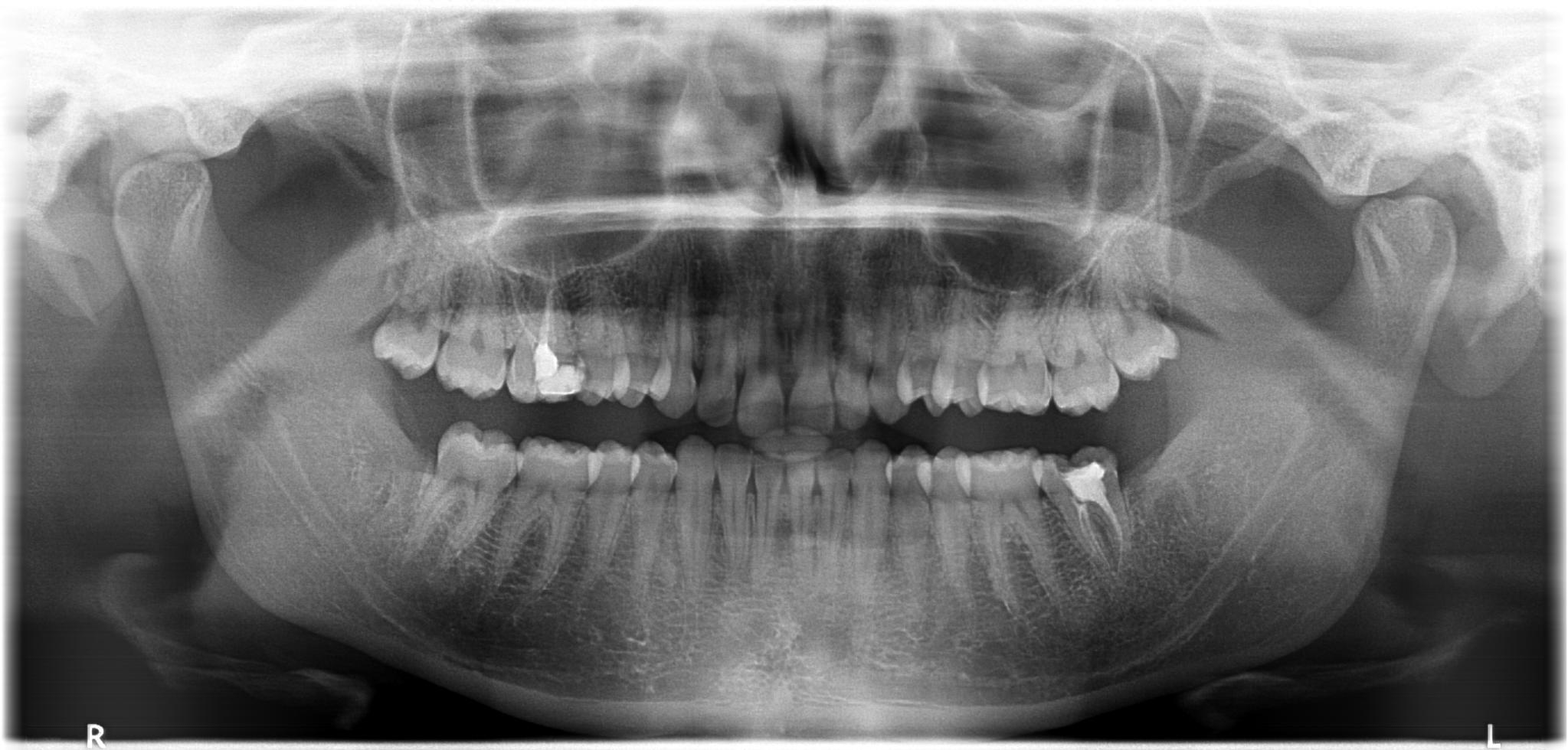Premolars: (515, 231, 1546, 703), (304, 209, 885, 537)
